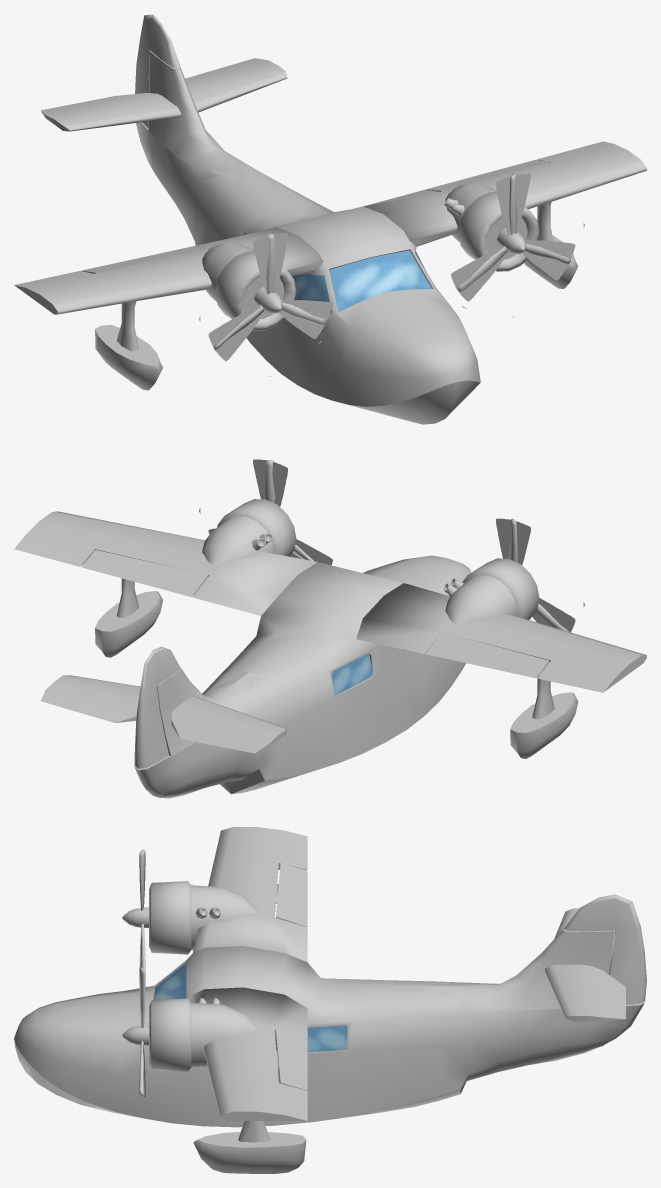
File: SeaPlane.fbx
3 renders of one model, top to bottom at view 1: azimuth 30°, elevation 25°; view 2: azimuth 150°, elevation 25°; view 3: azimuth 270°, elevation 25°, orthographic.
Visible parts, largest first — view 1: body, Wing_R, Wing_L, body_Tail, glass, Water_LandingGear_R, Turbine_R, Turbine_L, Horizontal_Stabilizer_R, vintRot.R, vintRot.L, Horizontal_Stabilizer_L (+5 smaller); view 2: body, Wing_R, Wing_L, Water_LandingGear_R, Turbine_R, Turbine_L, Horizontal_Stabilizer_R, Horizontal_Stabilizer_L, tail, body_Tail, flap_L, flap_R (+5 smaller); view 3: body, Wing_L, Wing_R, body_Tail, Turbine_L, Turbine_R, Water_LandingGear_R, tail, Horizontal_Stabilizer_L, glass, flap_R, flap_L (+2 smaller).
Part boxes in pixels (<box>): body: <box>136,122,480,424</box>; Wing_R: <box>14,227,323,314</box>; Wing_L: <box>363,141,646,246</box>; body_Tail: <box>148,50,252,177</box>; glass: <box>292,250,431,313</box>; Water_LandingGear_R: <box>95,202,578,390</box>; Turbine_R: <box>202,243,296,330</box>; Turbine_L: <box>444,184,539,271</box>; Horizontal_Stabilizer_R: <box>41,93,181,131</box>; vintRot.R: <box>199,233,332,376</box>; vintRot.L: <box>451,174,584,317</box>; Horizontal_Stabilizer_L: <box>185,58,287,112</box>; body: <box>134,555,471,798</box>; Wing_R: <box>356,583,646,692</box>; Wing_L: <box>14,511,317,615</box>; Water_LandingGear_R: <box>95,578,578,758</box>; Turbine_R: <box>444,558,539,623</box>; Turbine_L: <box>202,499,296,564</box>; Horizontal_Stabilizer_R: <box>171,696,287,753</box>; Horizontal_Stabilizer_L: <box>41,675,140,722</box>; tail: <box>134,646,179,768</box>; body_Tail: <box>157,666,252,755</box>; flap_L: <box>81,550,207,597</box>; flap_R: <box>426,632,549,678</box>; body: <box>14,946,644,1127</box>; Wing_L: <box>192,987,307,1120</box>; Wing_R: <box>193,827,307,962</box>; body_Tail: <box>425,929,614,1008</box>; Turbine_L: <box>149,997,257,1071</box>; Turbine_R: <box>149,881,257,954</box>; Water_LandingGear_R: <box>193,1121,306,1173</box>; tail: <box>564,894,646,1004</box>; Horizontal_Stabilizer_L: <box>545,964,625,1021</box>; glass: <box>153,963,347,1052</box>; flap_R: <box>275,863,307,926</box>; flap_L: <box>275,1029,307,1090</box>.
Bounding box in the file's own units: 1066 × 400 × 1002.
